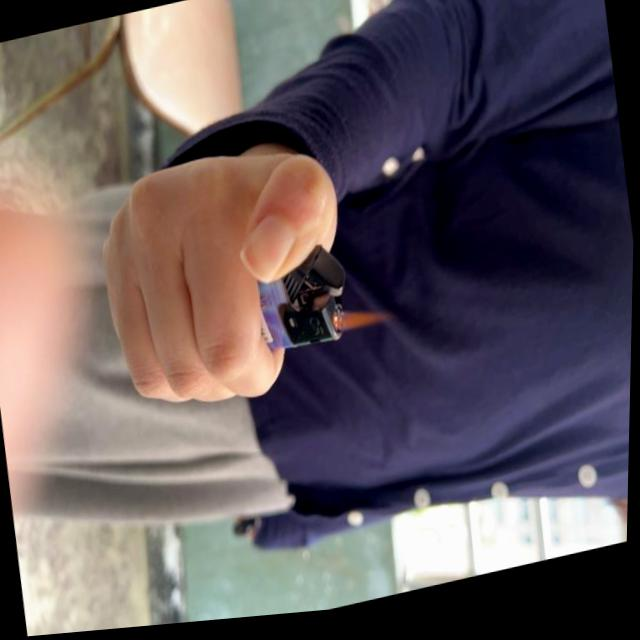Fire: (334, 302, 394, 342)
